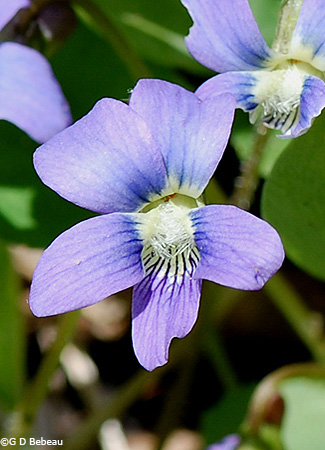violet: (25, 88, 292, 360)
